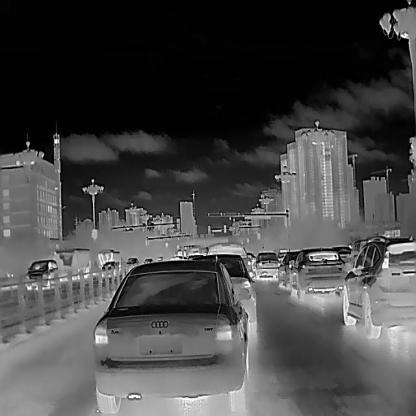car: (92, 259, 249, 411), (342, 240, 415, 337), (193, 253, 255, 334), (290, 250, 347, 297), (208, 241, 253, 281), (52, 248, 90, 278), (24, 258, 59, 290), (277, 251, 305, 290), (252, 251, 279, 279), (96, 248, 120, 269), (101, 261, 118, 274), (126, 257, 139, 267)
